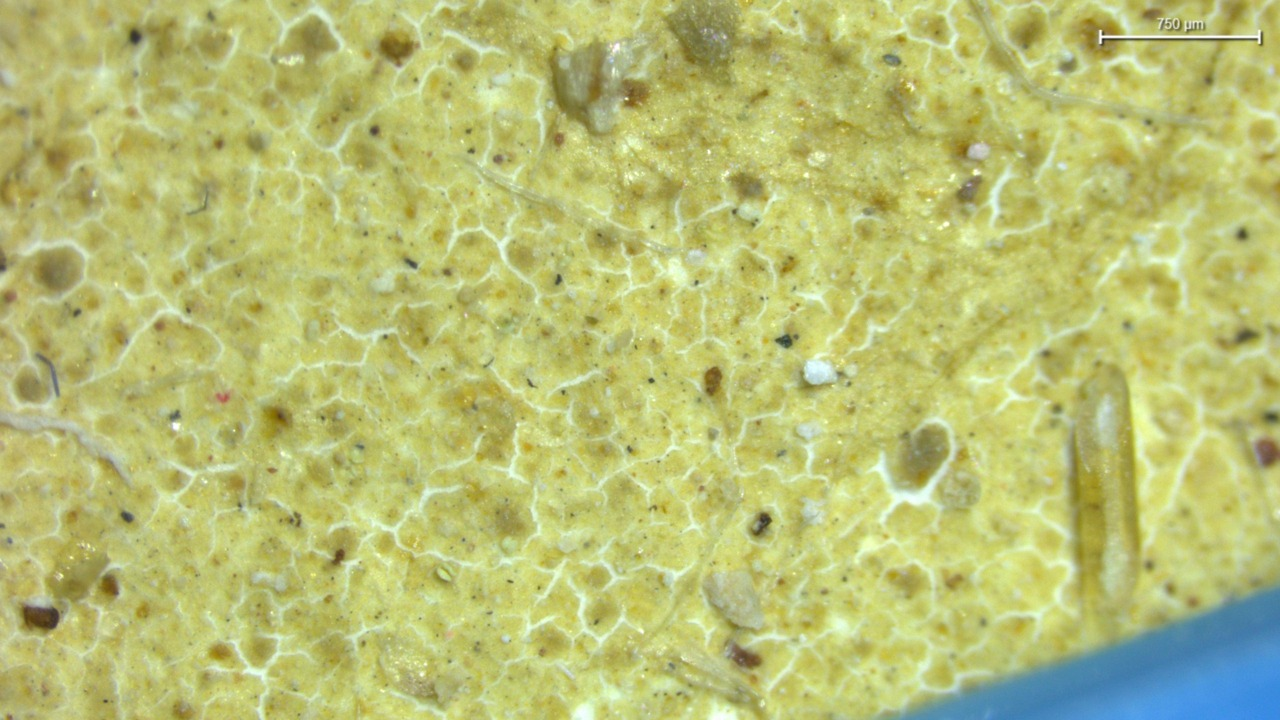microplastic_fragment: (552, 38, 639, 134), (703, 570, 764, 629), (804, 359, 837, 385)
